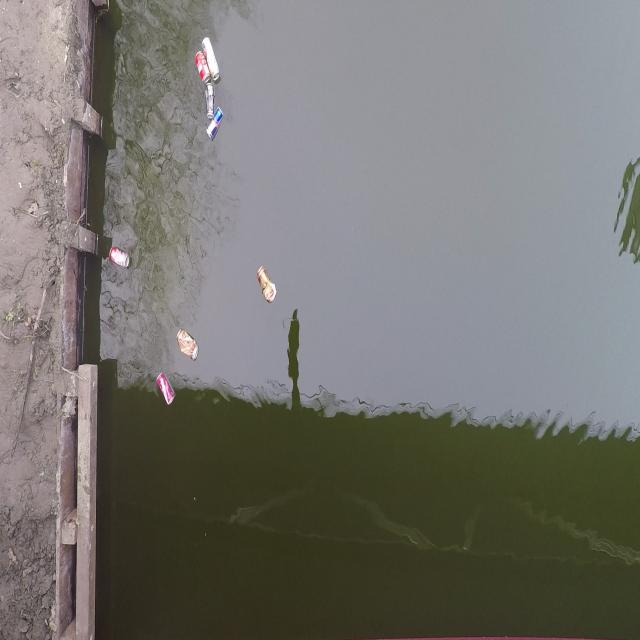Non plastique: (197, 16, 226, 86), (203, 94, 228, 156), (187, 41, 216, 93), (253, 261, 280, 309), (153, 368, 180, 415), (174, 325, 199, 367), (104, 240, 132, 273), (204, 82, 218, 126)
